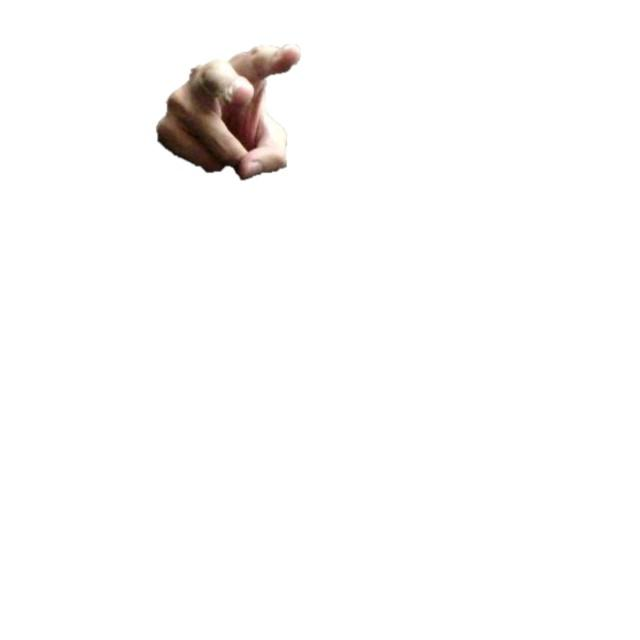tyoki: (155, 43, 303, 182)
